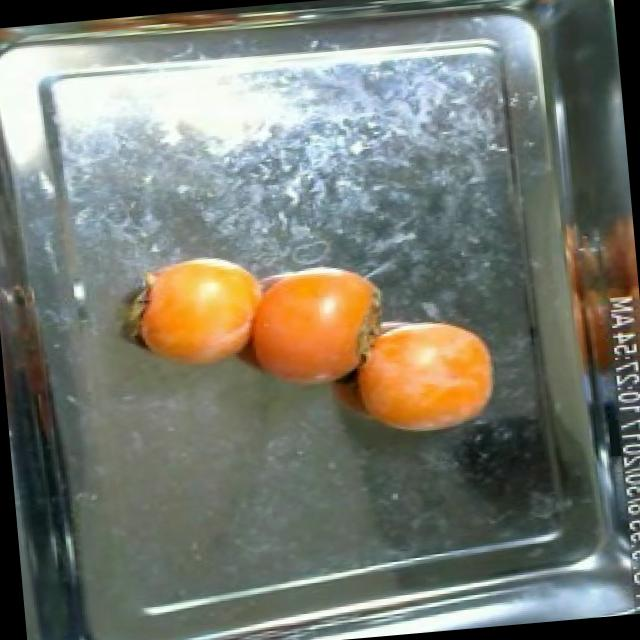Fruit: (225, 247, 408, 403), (335, 306, 512, 450), (115, 235, 286, 384)
